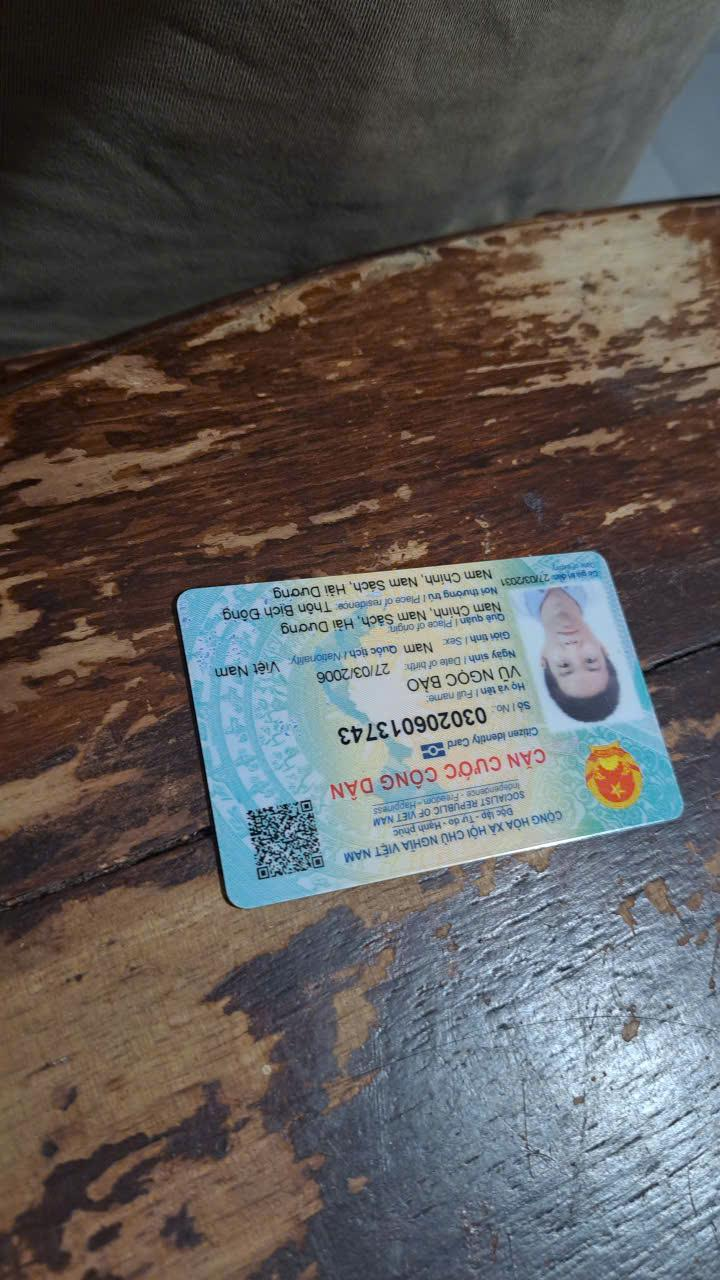cccd: (172, 547, 690, 918)
